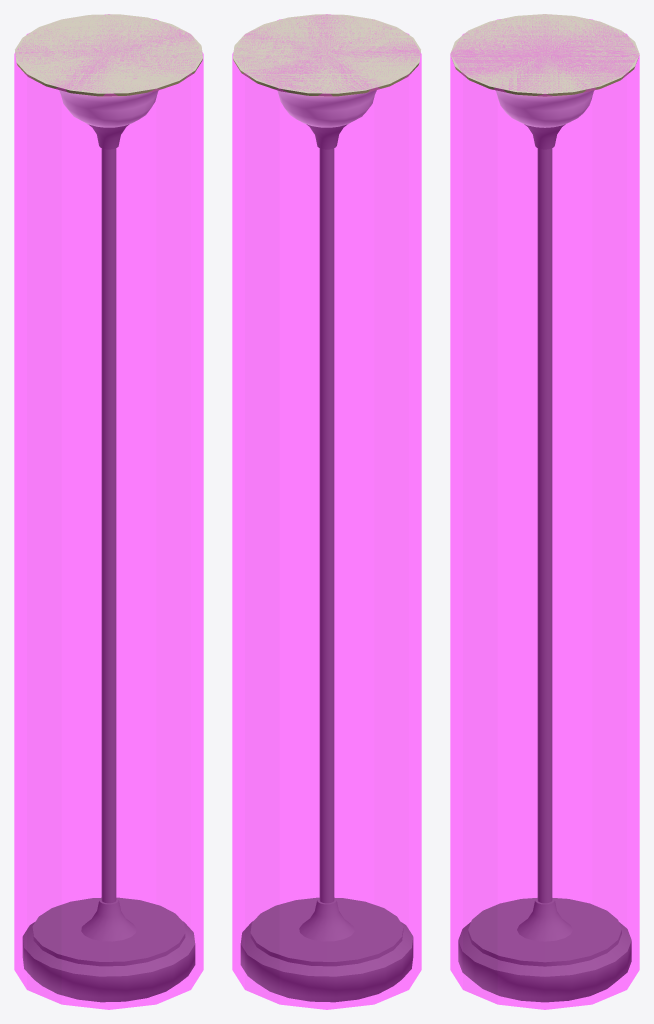
Rendered from floor_lamp.fbx.
The picture shows the model from 3 angles, left to right: view 1: azimuth 30°, elevation 25°; view 2: azimuth 150°, elevation 25°; view 3: azimuth 270°, elevation 25°; orthographic projection.
Parts seen in each view (by area): view 1: boundingbox, floor_lamp; view 2: boundingbox, floor_lamp; view 3: boundingbox, floor_lamp.
Part boxes in pixels (box(x1,y1,x2,y2)): boundingbox: box(14, 14, 203, 1009); floor_lamp: box(15, 14, 202, 1002); boundingbox: box(232, 14, 421, 1009); floor_lamp: box(233, 14, 420, 1002); boundingbox: box(450, 19, 639, 1009); floor_lamp: box(450, 14, 639, 1002).
Bounding box in the file's own units: 30.26 × 161 × 30.26.
3 materials, 1 textured.
